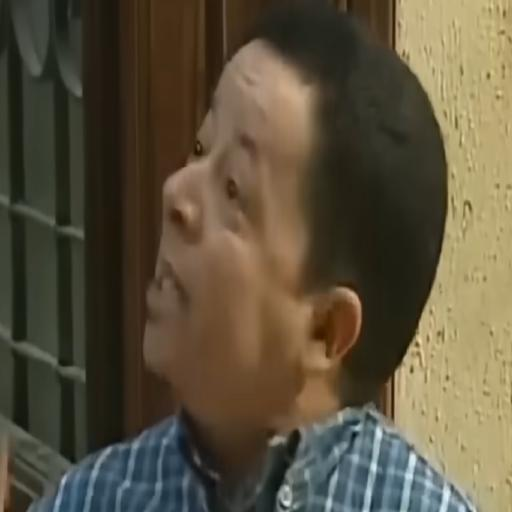fouchika: (143, 0, 447, 438)
